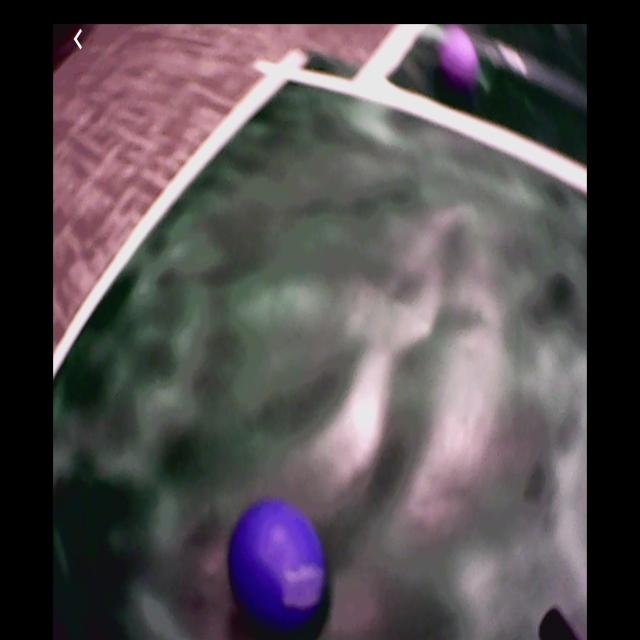ball: (229, 501, 324, 625), (442, 32, 477, 83)
